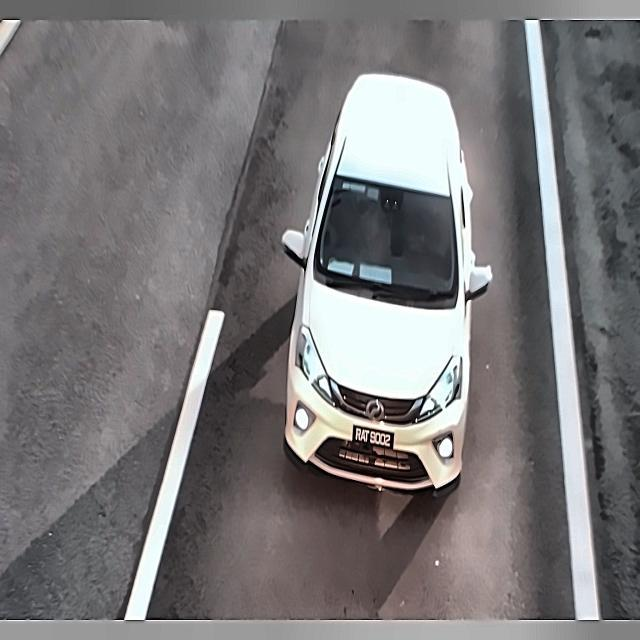car: (345, 416, 397, 456)
